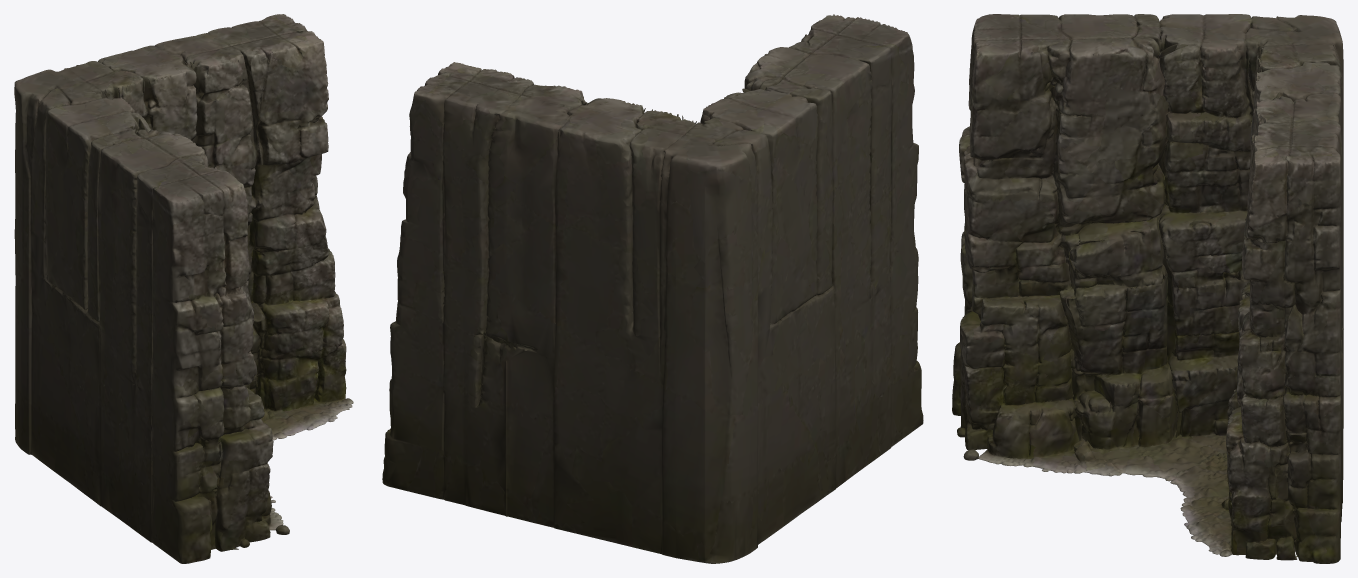
File: Meshy_AI_cliff_corner_0823030649_image-to-3d-texture.glb
3 views of the same model, side by side, from view 1: azimuth 30°, elevation 25°; view 2: azimuth 150°, elevation 25°; view 3: azimuth 270°, elevation 25° (orthographic). The views are drawn at different scales.
Visible parts, largest first — view 1: mesh_node; view 2: mesh_node; view 3: mesh_node.
Part boxes in pixels (x1,y1,x2,y2): mesh_node: (14,14,353,563); mesh_node: (382,14,923,563); mesh_node: (952,14,1343,563).
Bounding box in the file's own units: 1.74 × 1.91 × 1.74.
Materials: 1 (1 with a texture image).
